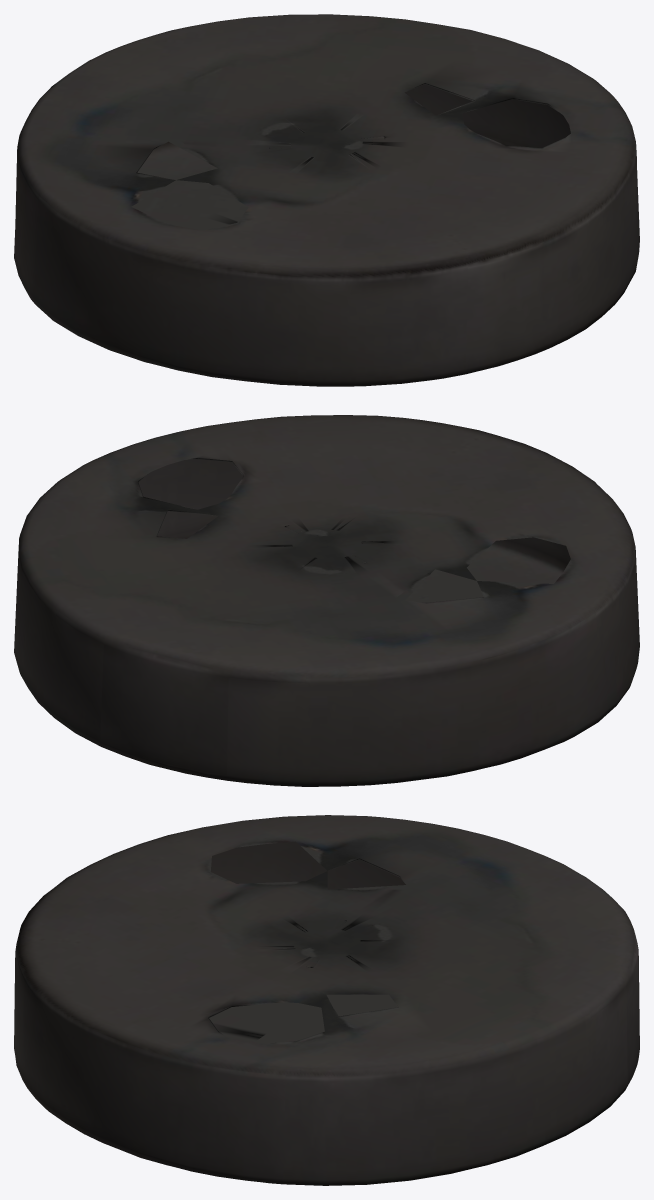
Rendered from SM_Medusa_Base_Candidate.fbx.
The picture shows the model from 3 angles, top to bottom: view 1: azimuth 30°, elevation 25°; view 2: azimuth 150°, elevation 25°; view 3: azimuth 270°, elevation 25°; orthographic projection.
Visible parts, largest first — view 1: SM_Medusa_Base; view 2: SM_Medusa_Base; view 3: SM_Medusa_Base.
Boxes of the visible parts, x1=… form: SM_Medusa_Base: x1=14, y1=14, x2=639, y2=386; SM_Medusa_Base: x1=14, y1=415, x2=639, y2=786; SM_Medusa_Base: x1=14, y1=815, x2=639, y2=1185.
Size of the model in its own units: 30 by 30 by 6.
